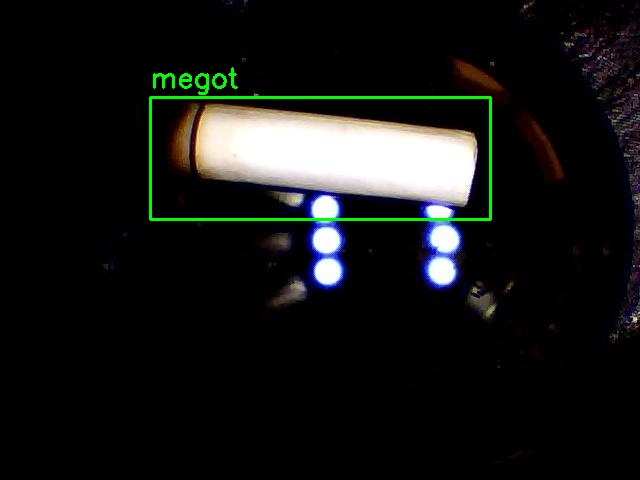megot: (150, 97, 490, 219)
